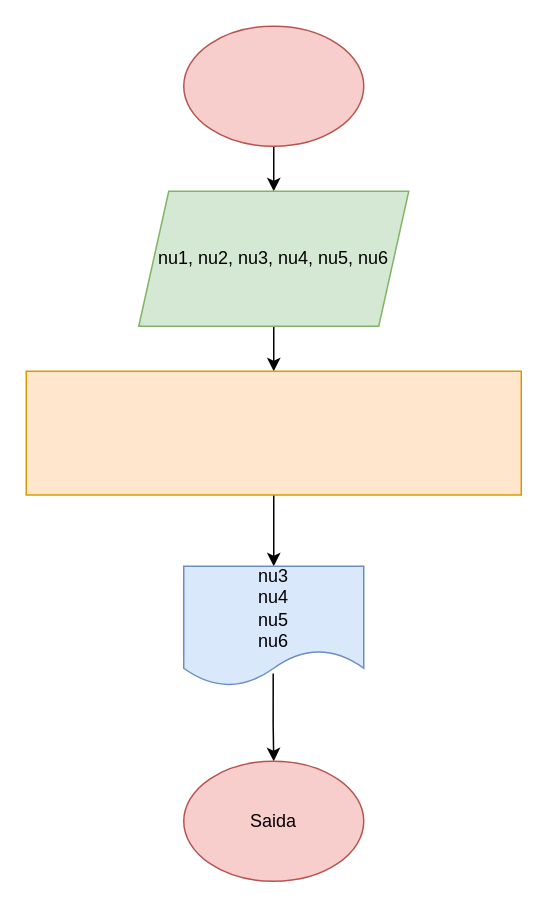
The diagram is 548 pixels wide and 908 high, and some of its shapes have lost their labels. The centre of each missing label's shape, as x and y in pixels:
"Inicio" belongs at point 273,85.
"nu3 <- (nu1 + nu2) nu4 <- nu1 - nu2 nu5 <- nu1 * nu2 nu6 <- (nu1) / (nu2)" belongs at point 273,432.
